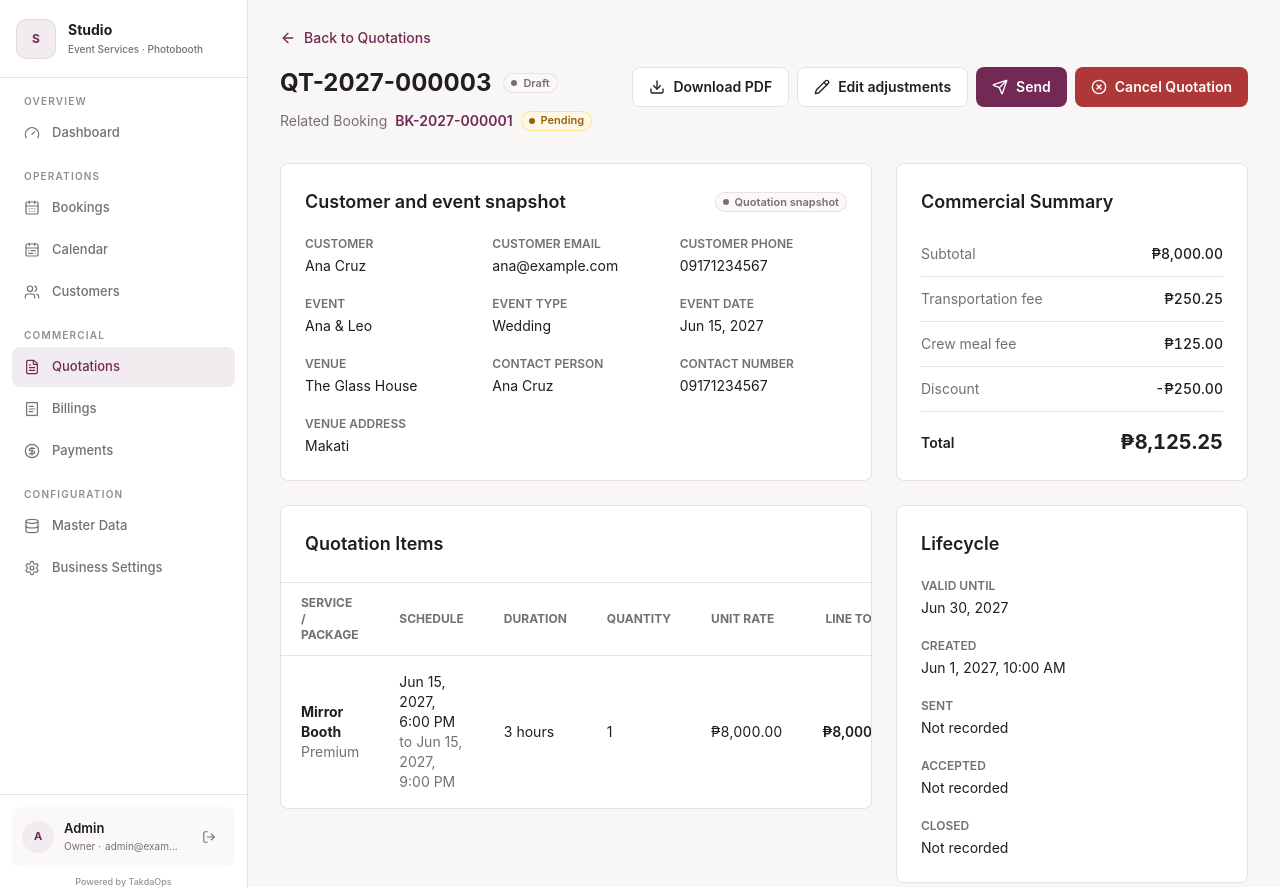
maps backend adjustment validation to its field
The image size is (1280, 887).
Click the button "Edit adjustments": (883, 87) [797,67,968,107]
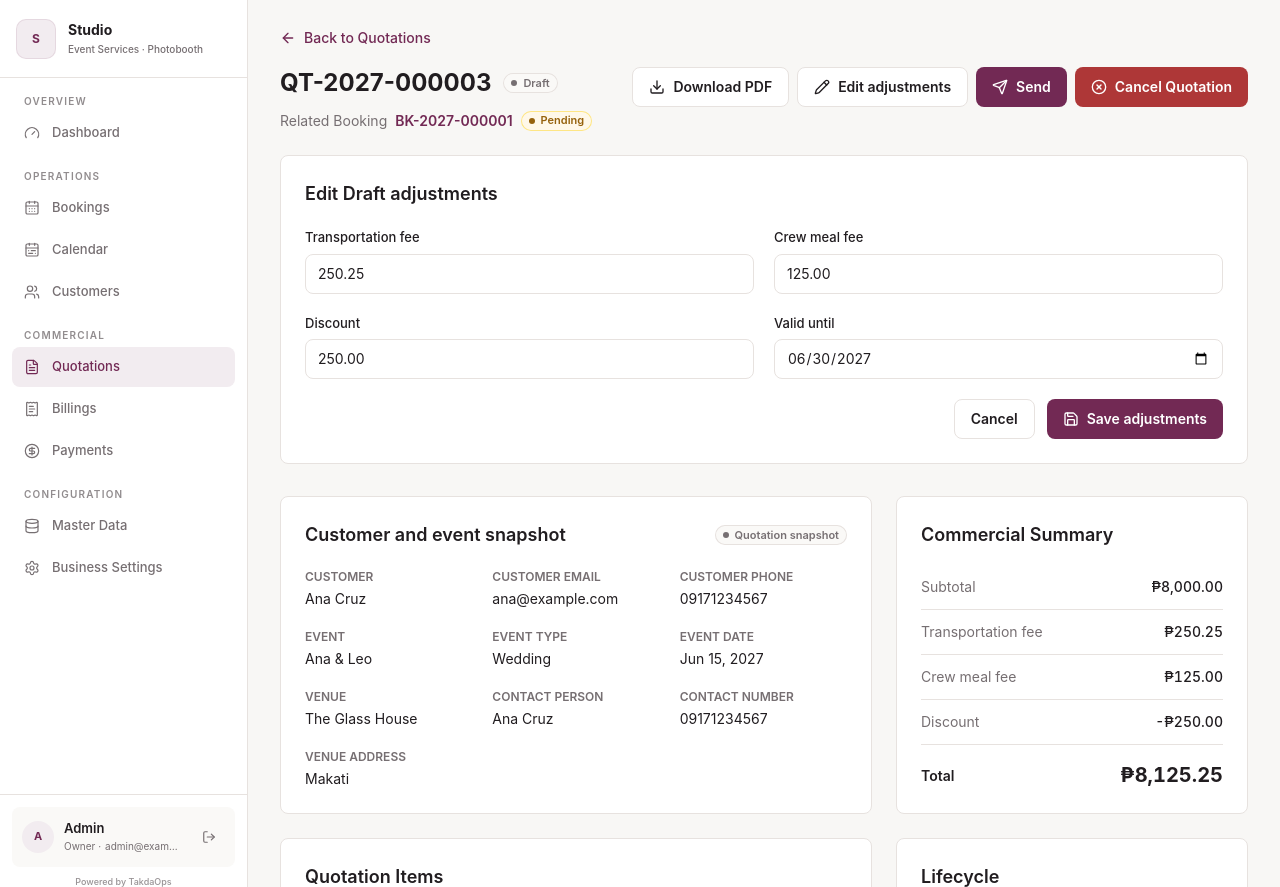
Click the button "Save adjustments": (1135, 419) [1047,399,1223,439]
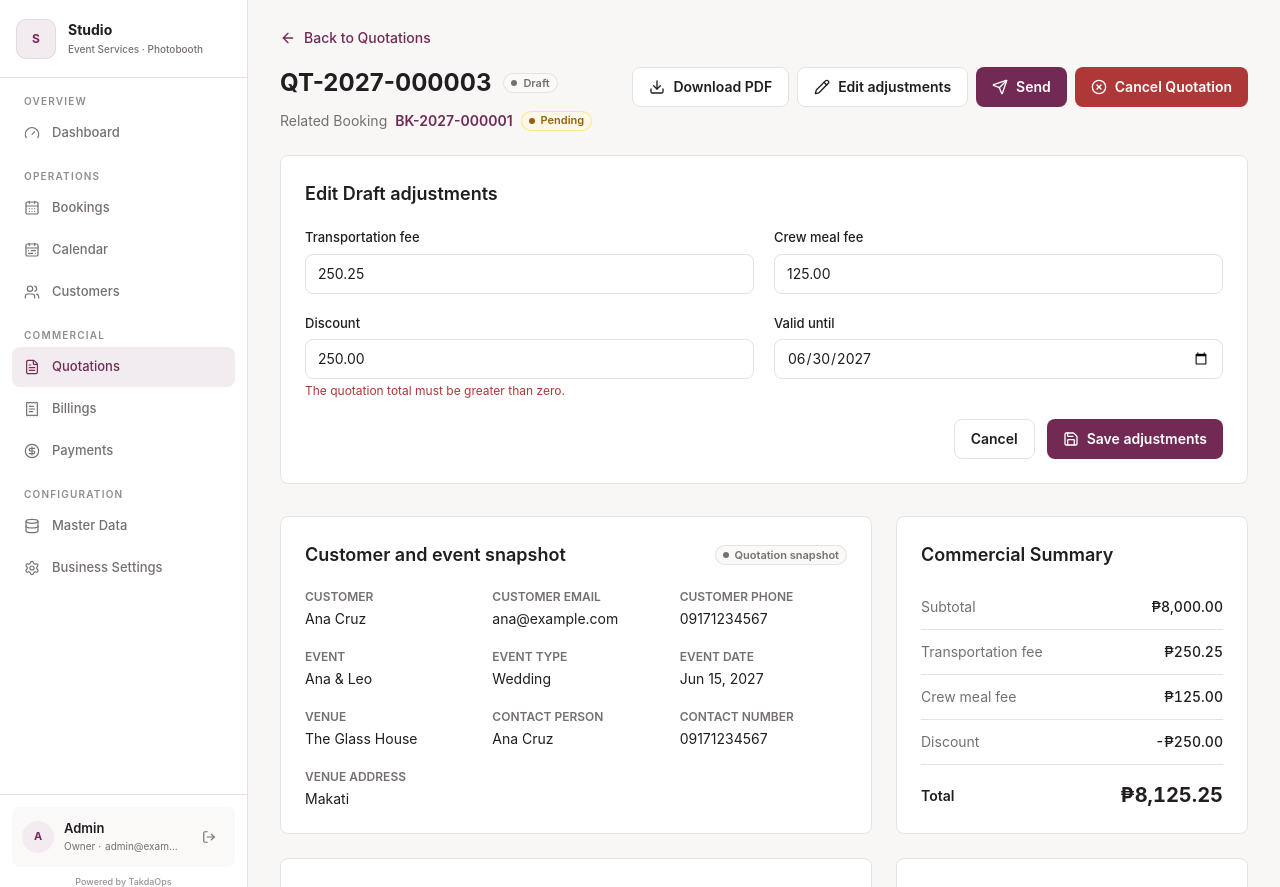
Expected: the text "The quotation total must be greater than zero." is shown, [305,383,565,398]
